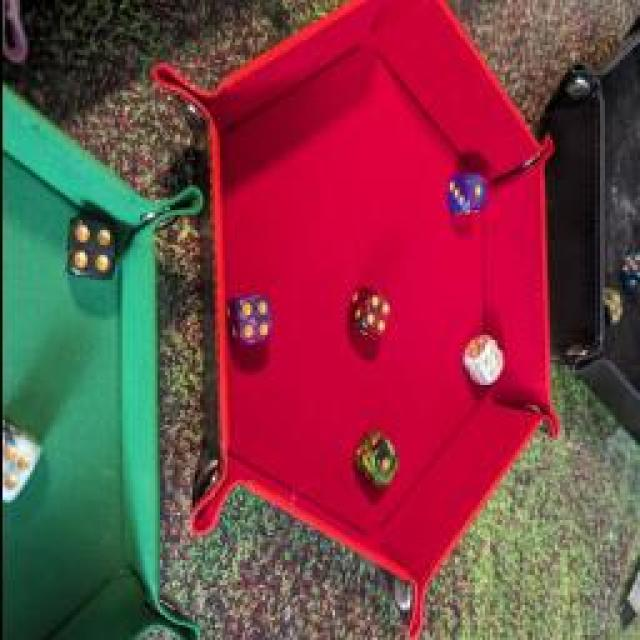dice_1: (351, 430, 401, 490), (444, 170, 494, 220)
dice_4: (64, 216, 121, 279), (223, 288, 275, 354), (346, 283, 392, 345), (462, 332, 506, 388), (596, 285, 624, 327)
dice_6: (0, 422, 42, 519)
